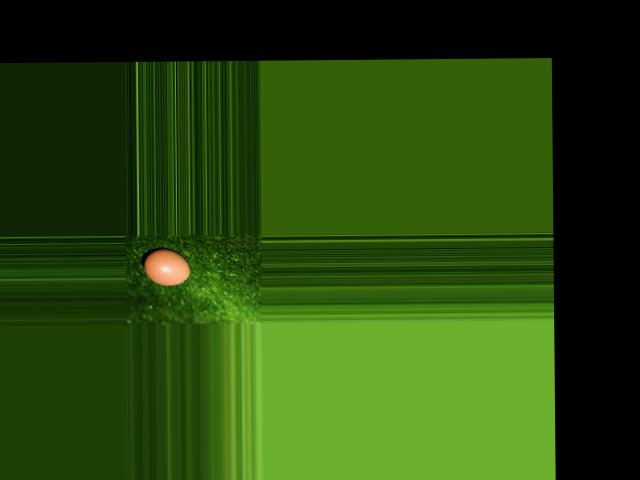egg: (143, 247, 191, 285)
